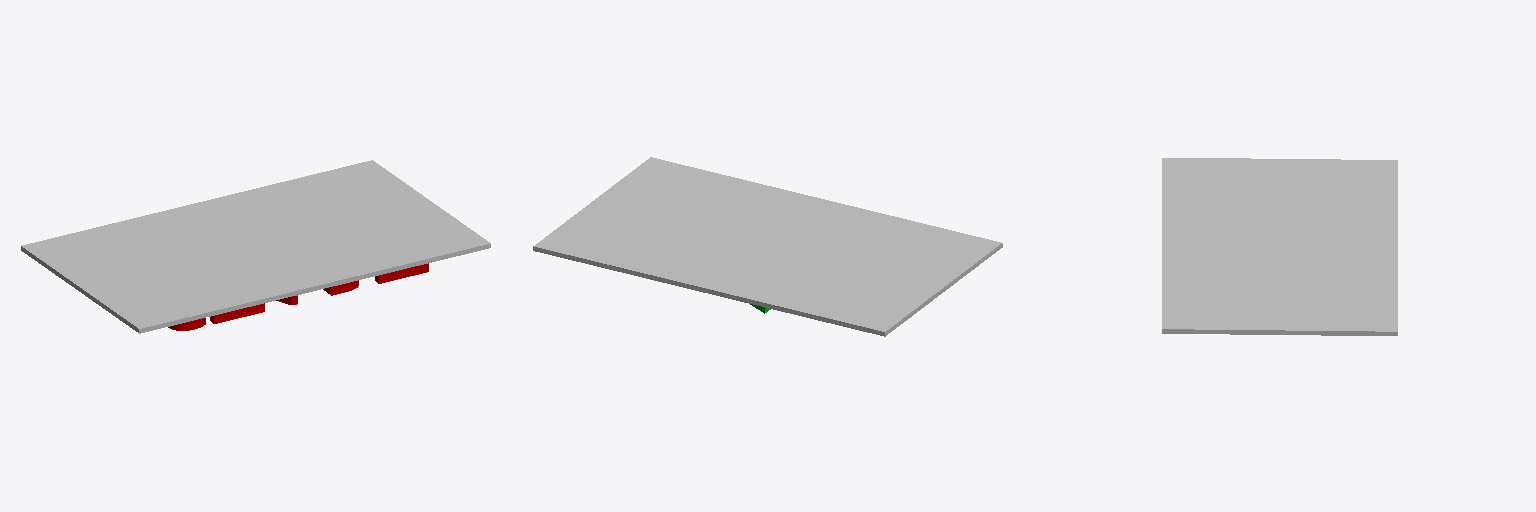
File: start.obj
3 views of the same model, side by side, from view 1: azimuth 30°, elevation 25°; view 2: azimuth 150°, elevation 25°; view 3: azimuth 270°, elevation 25° (orthographic).
Parts seen in each view (by area): view 1: Start; view 2: Start; view 3: Start.
Boxes of the visible parts, box(x1,y1,x2,y2) form: Start: box(21, 160, 490, 333); Start: box(533, 157, 1002, 336); Start: box(1162, 158, 1397, 335).
Size of the model in its own units: 4.01 by 0.2782 by 2.33.